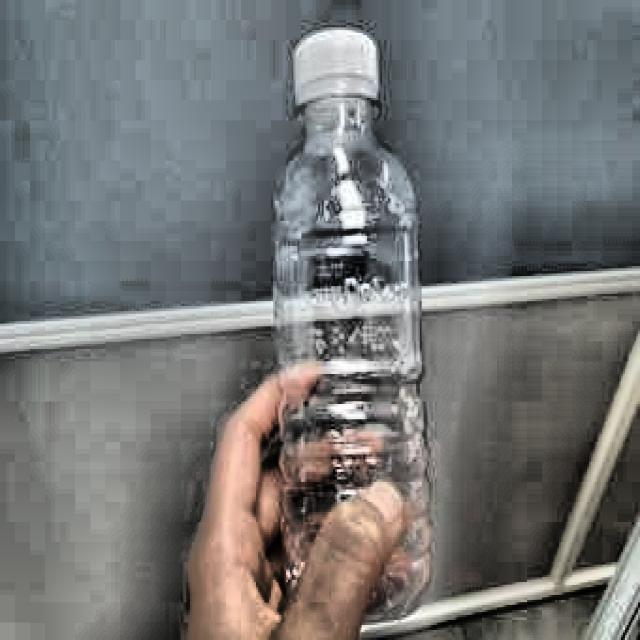Bottles: (258, 20, 442, 628)
